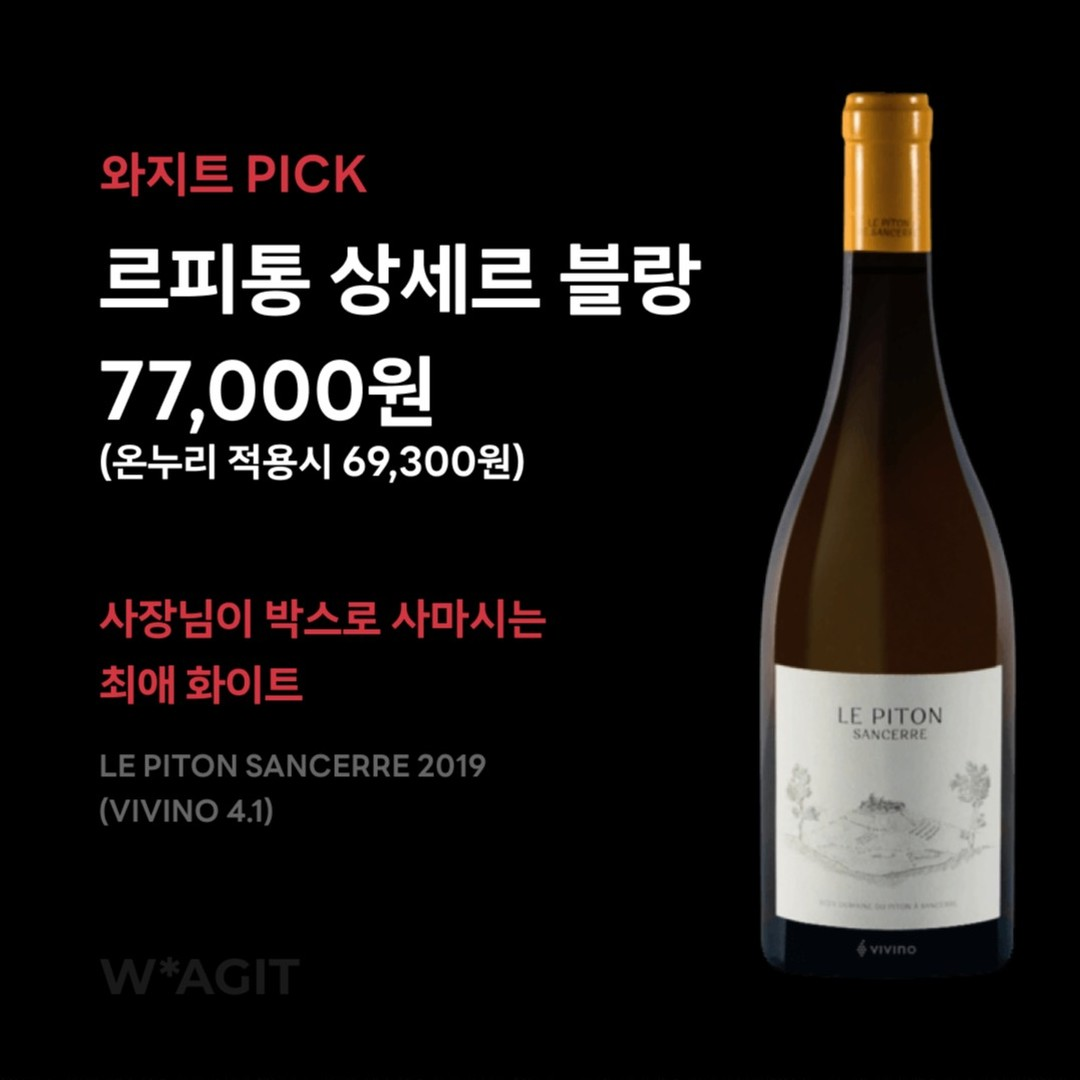alcohol: (753, 84, 1027, 989)
